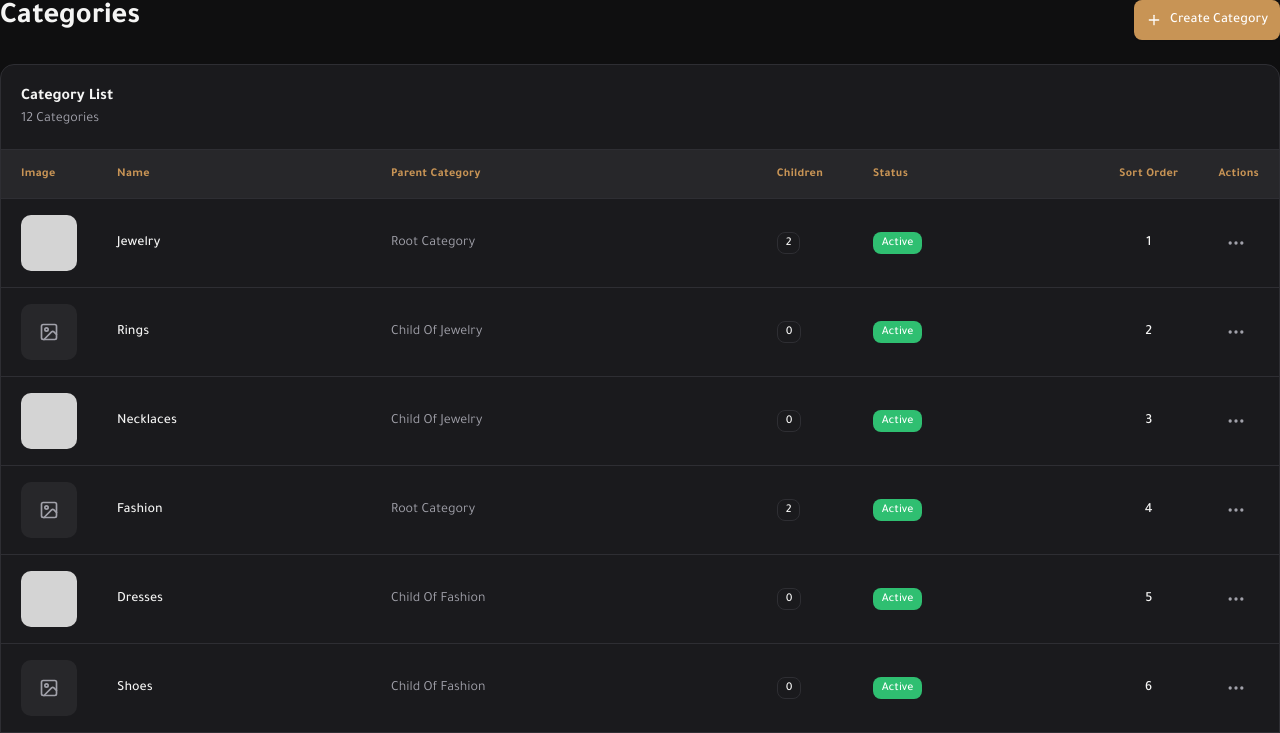
Scenario: CategoriesPage › shows a safe detail retry state
Click the button named "Actions for Jewelry" at (1236, 242), box left=1218, top=224, right=1254, bottom=260
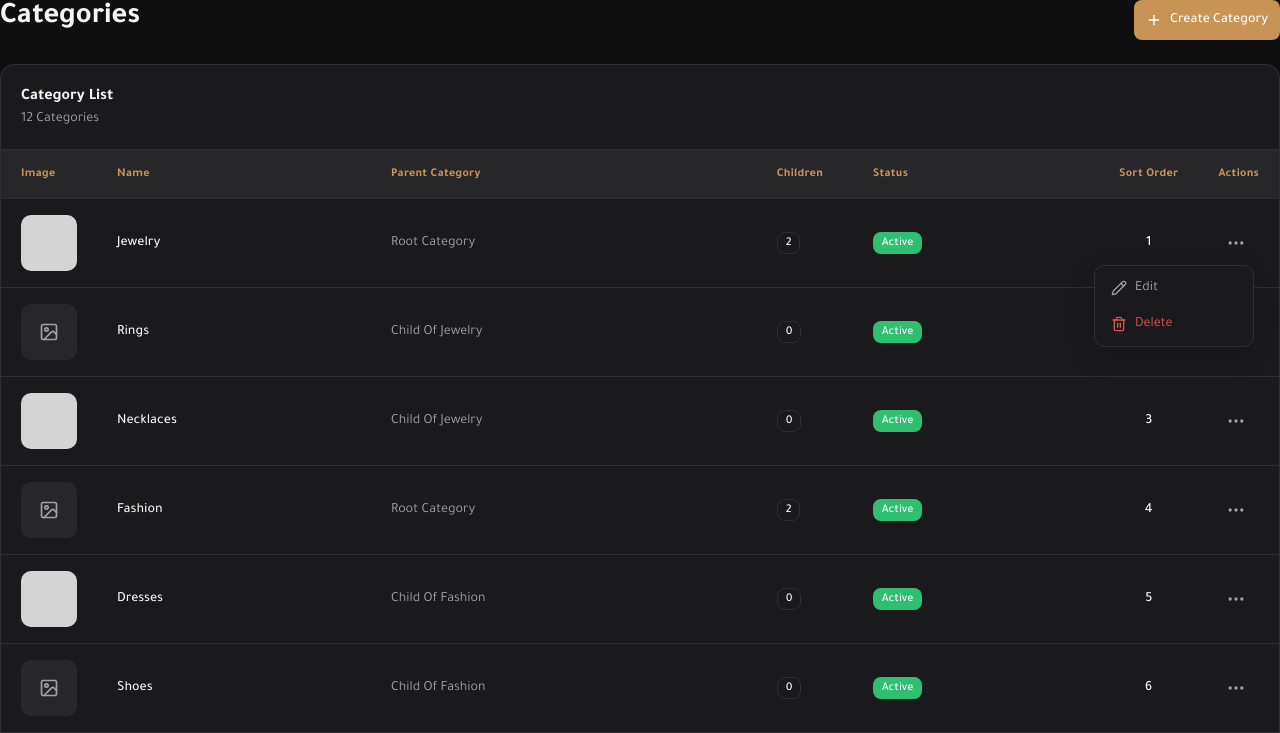
Click the menu item "Edit" at (1135, 288), box left=1111, top=280, right=1158, bottom=296
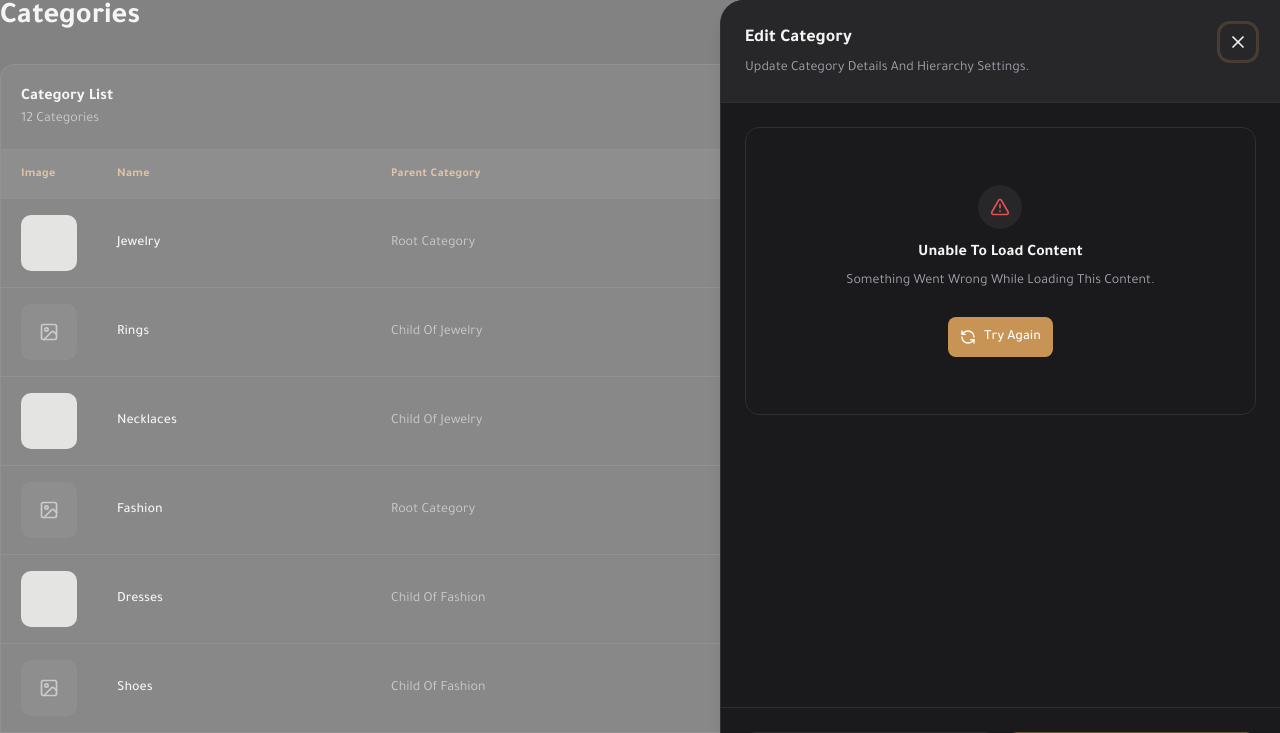
Expected: the element with test id "query-state-loading-error" is shown, left=745, top=127, right=1256, bottom=415
Click the button "Try again" at (1000, 337), box left=948, top=317, right=1053, bottom=357
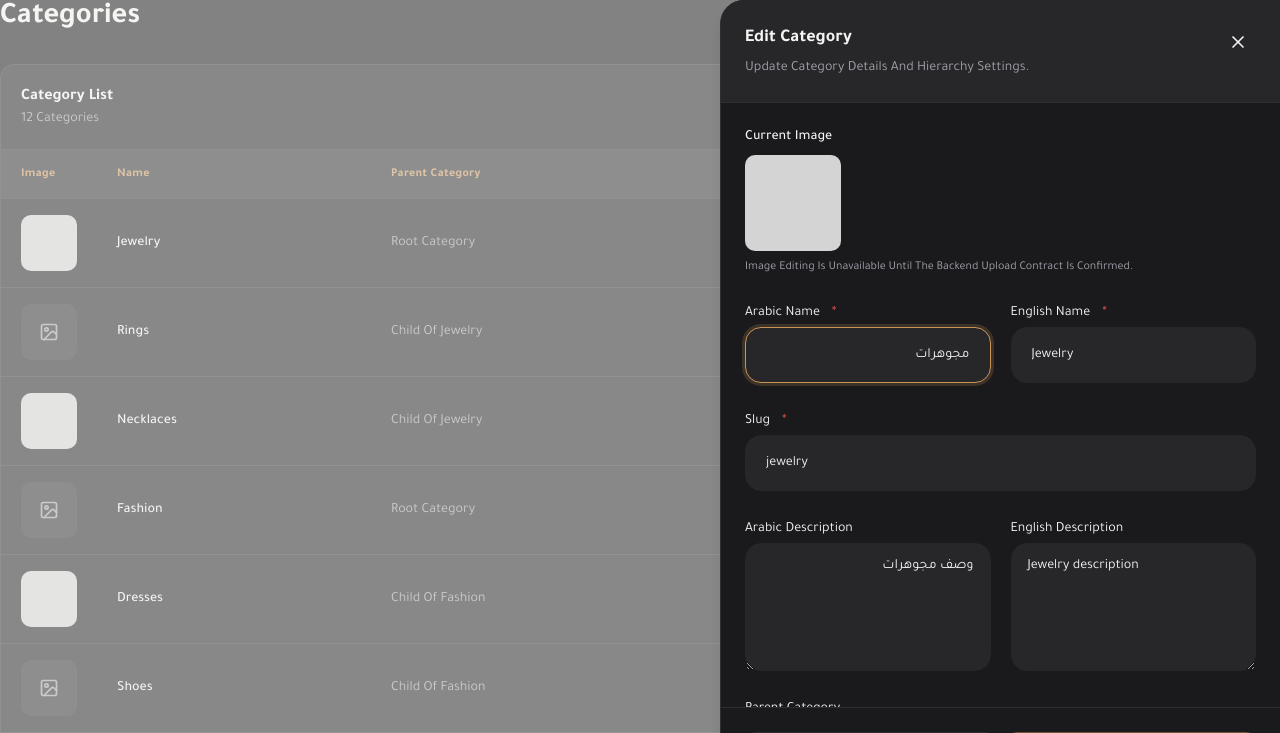
Expected: the field labelled "English Name *" holds "Jewelry", left=1020, top=337, right=1247, bottom=373
